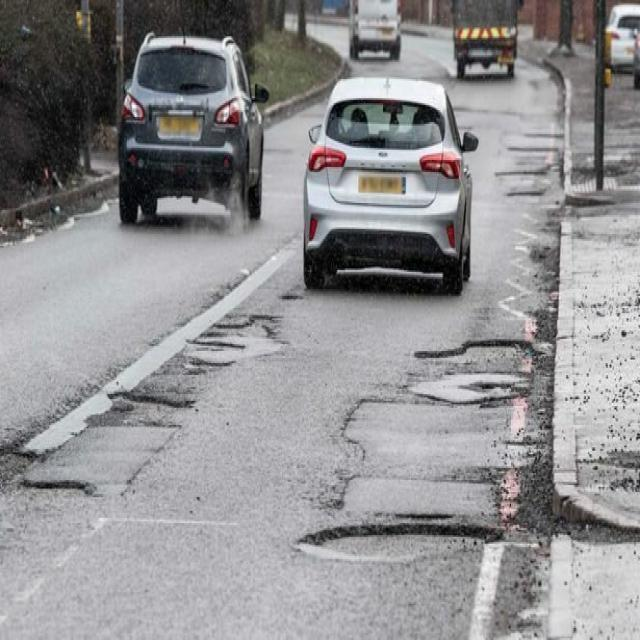pothole: (3, 262, 289, 560), (298, 300, 563, 594)
